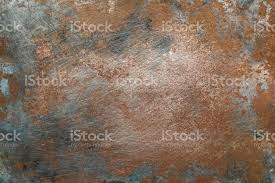rust: (23, 26, 275, 173), (69, 3, 142, 35)
